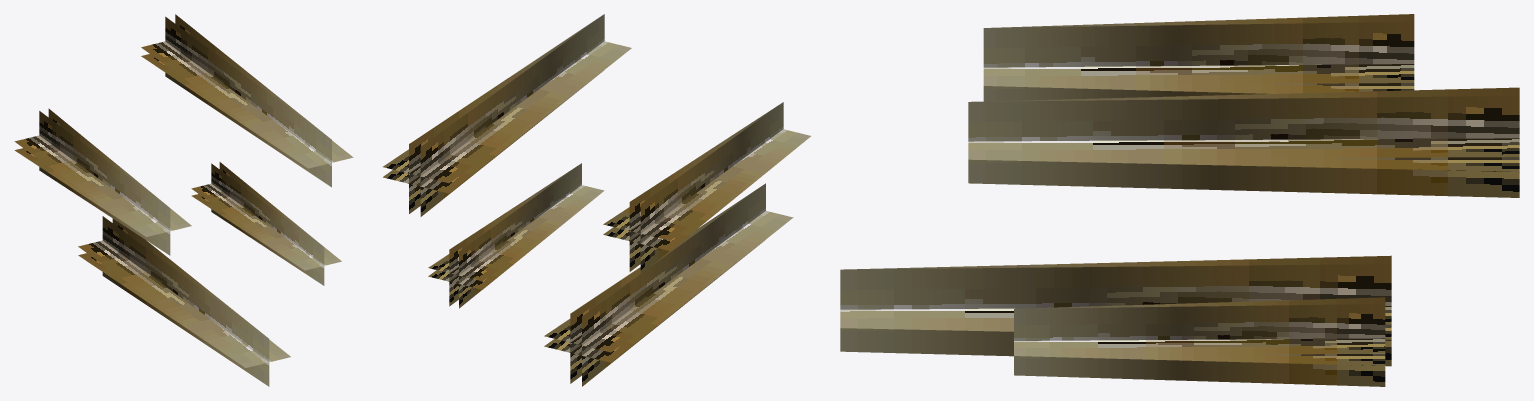
Rendered from idle.glb.
3 views of the same model, side by side, from view 1: azimuth 30°, elevation 25°; view 2: azimuth 150°, elevation 25°; view 3: azimuth 270°, elevation 25° (orthographic). The views are drawn at different scales.
Visible parts, largest first — view 1: MeshRoot; view 2: MeshRoot; view 3: MeshRoot.
Part boxes in pixels (<box>): MeshRoot: <box>14,14,353,386</box>; MeshRoot: <box>383,14,810,386</box>; MeshRoot: <box>840,14,1519,386</box>.
Size of the model in its own units: 0.6523 by 0.6016 by 1.05.
1 material, 1 textured.
